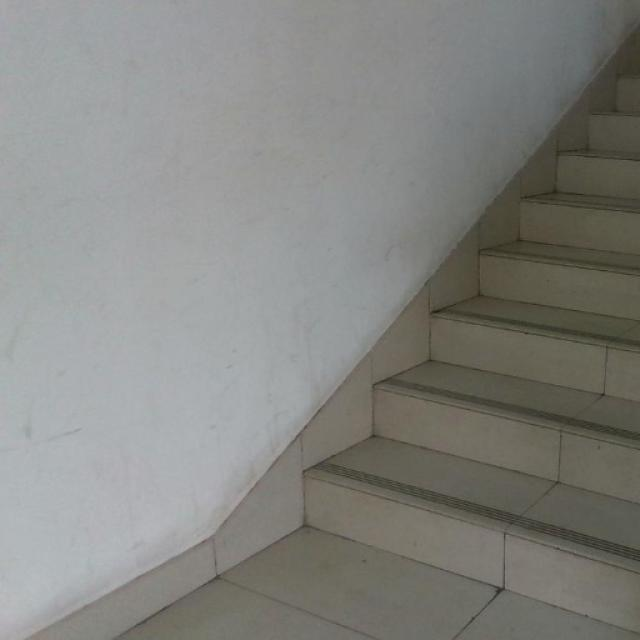stair: (300, 94, 640, 572)
